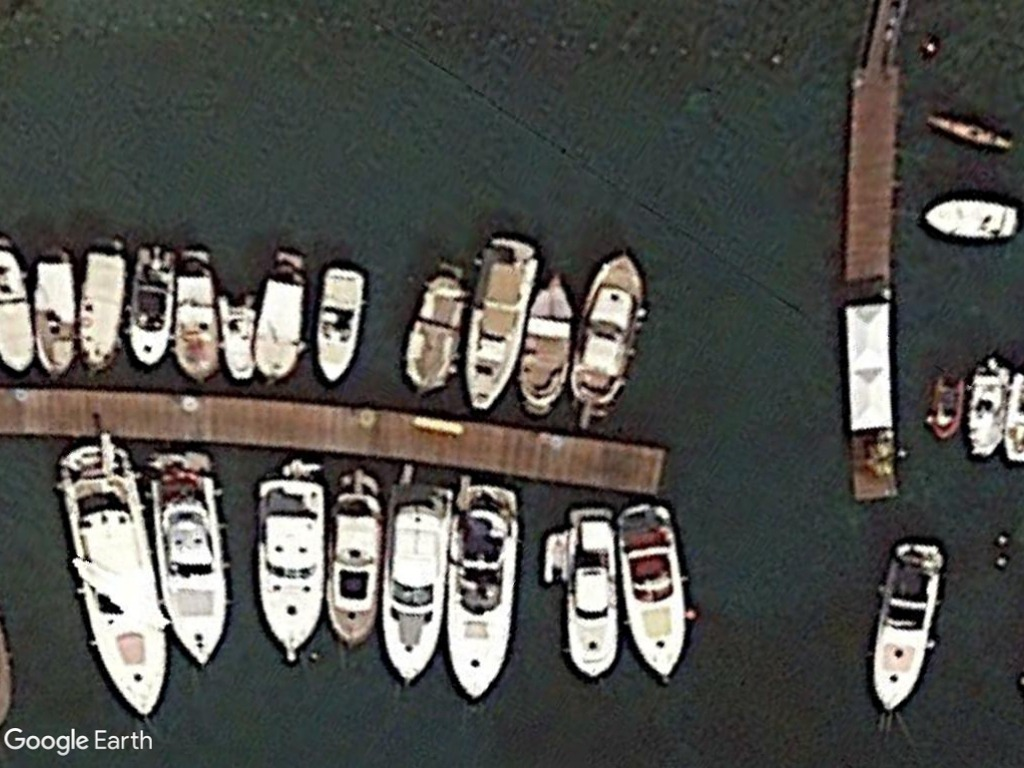boat: (53, 441, 173, 719), (137, 445, 234, 673), (375, 469, 450, 696), (448, 480, 524, 703), (248, 460, 328, 667), (862, 538, 952, 719), (568, 244, 662, 412), (611, 497, 691, 685), (462, 234, 542, 420), (560, 499, 624, 682), (324, 464, 383, 657), (399, 255, 471, 401), (74, 231, 132, 384), (521, 267, 577, 419), (254, 246, 314, 387), (308, 262, 370, 391), (171, 242, 225, 388), (24, 243, 79, 385), (127, 236, 177, 373), (917, 188, 1023, 248), (966, 353, 1009, 467), (213, 288, 258, 386)
